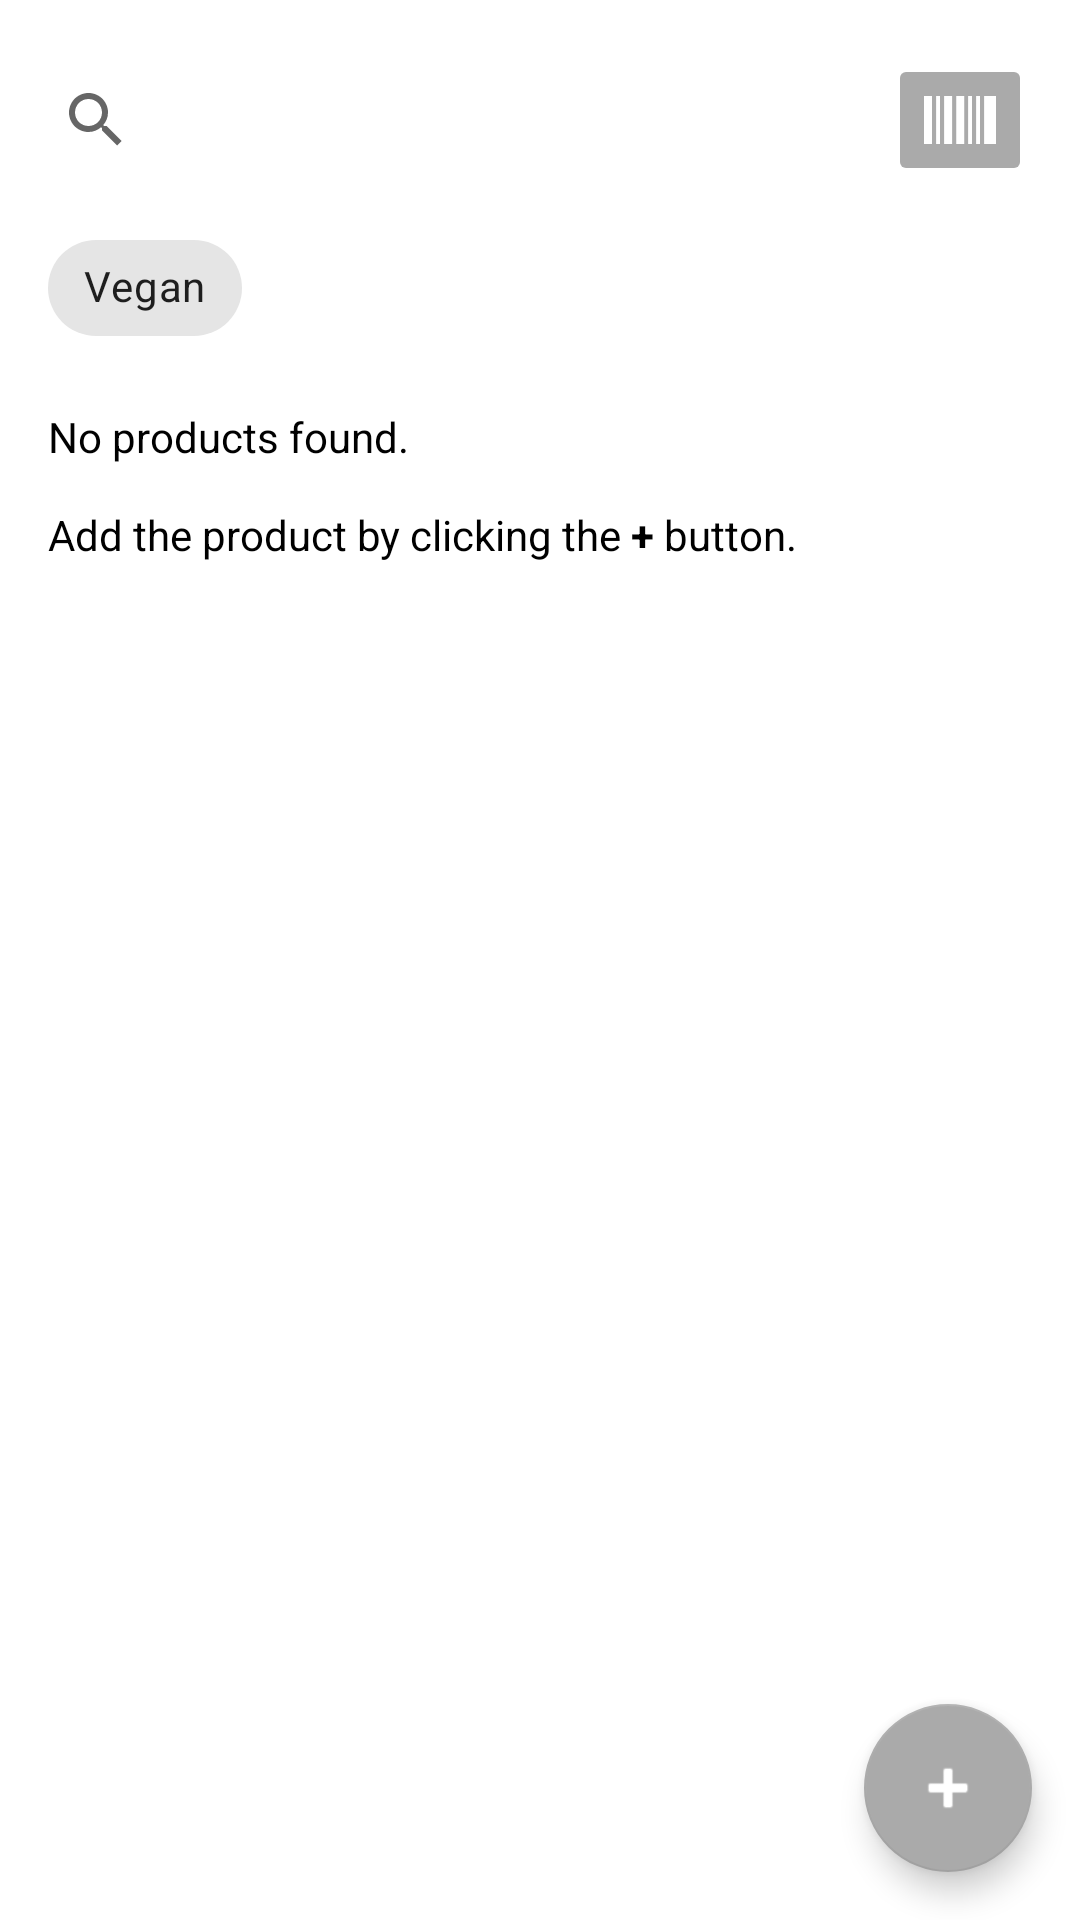

Locate icon controls on the screen. Image size 1080 × 1920, boxes as rect(x1, y1, x2, y2).
add: rect(864, 1704, 1032, 1872)
barcode: rect(900, 72, 1020, 168)
